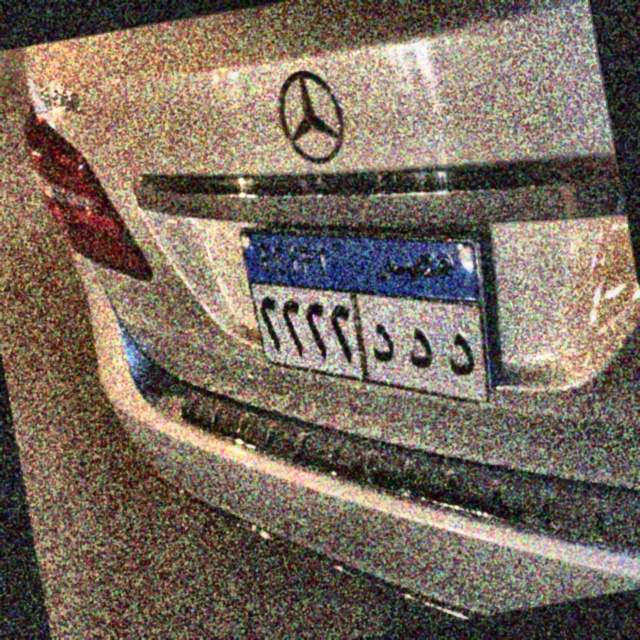License Plate: (234, 186, 509, 444)
